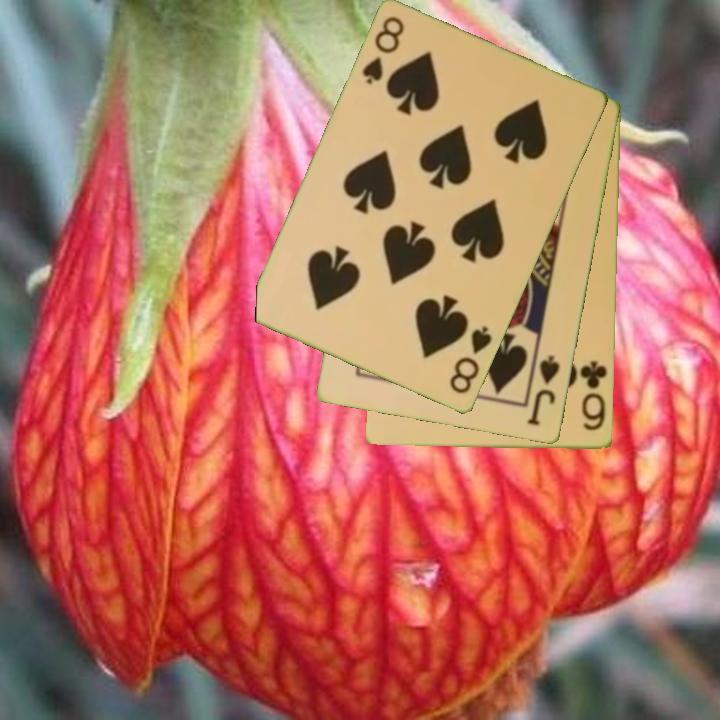6c: (577, 357, 610, 434)
8s: (359, 13, 408, 89), (446, 323, 495, 398)
Js: (524, 352, 563, 429)
